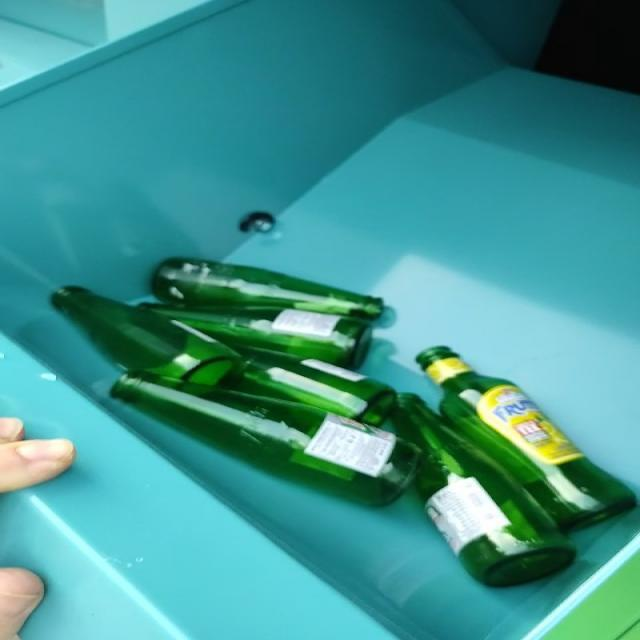Glass: (51, 259, 637, 587)
